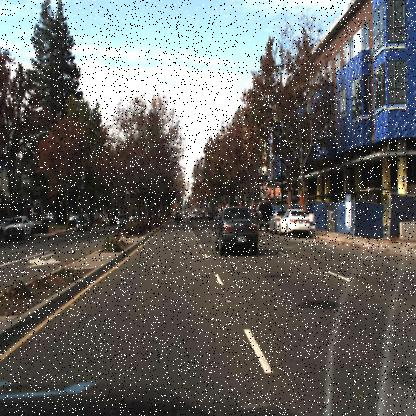car: (212, 204, 260, 257), (278, 206, 312, 238), (4, 213, 37, 244), (278, 206, 309, 236), (254, 201, 272, 236), (267, 209, 286, 235), (74, 214, 90, 234), (114, 211, 129, 231), (172, 209, 186, 227), (189, 208, 199, 224)
